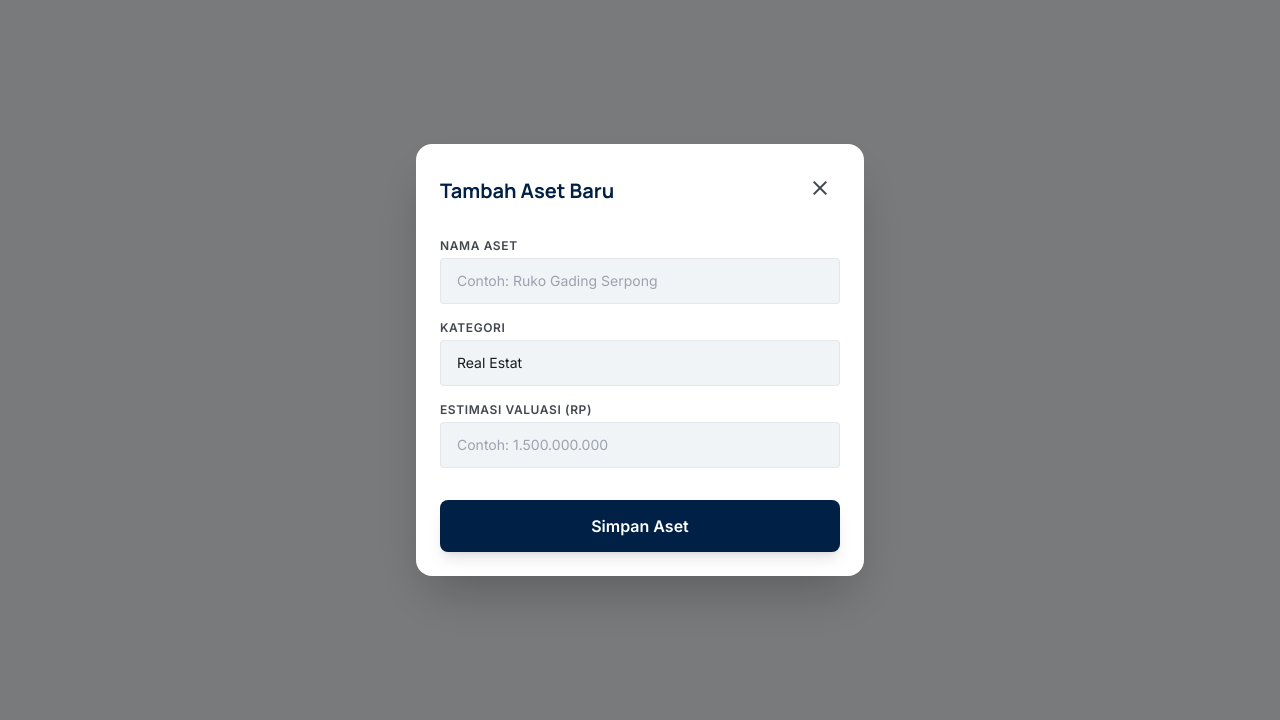
it: AddAssetModal Component › harusnya memformat input valuasi dengan pemisah ribuan
Type "1000000" into the field with placeholder "Contoh: 1.500.000.000" at (640, 445), box [440,422,840,468]
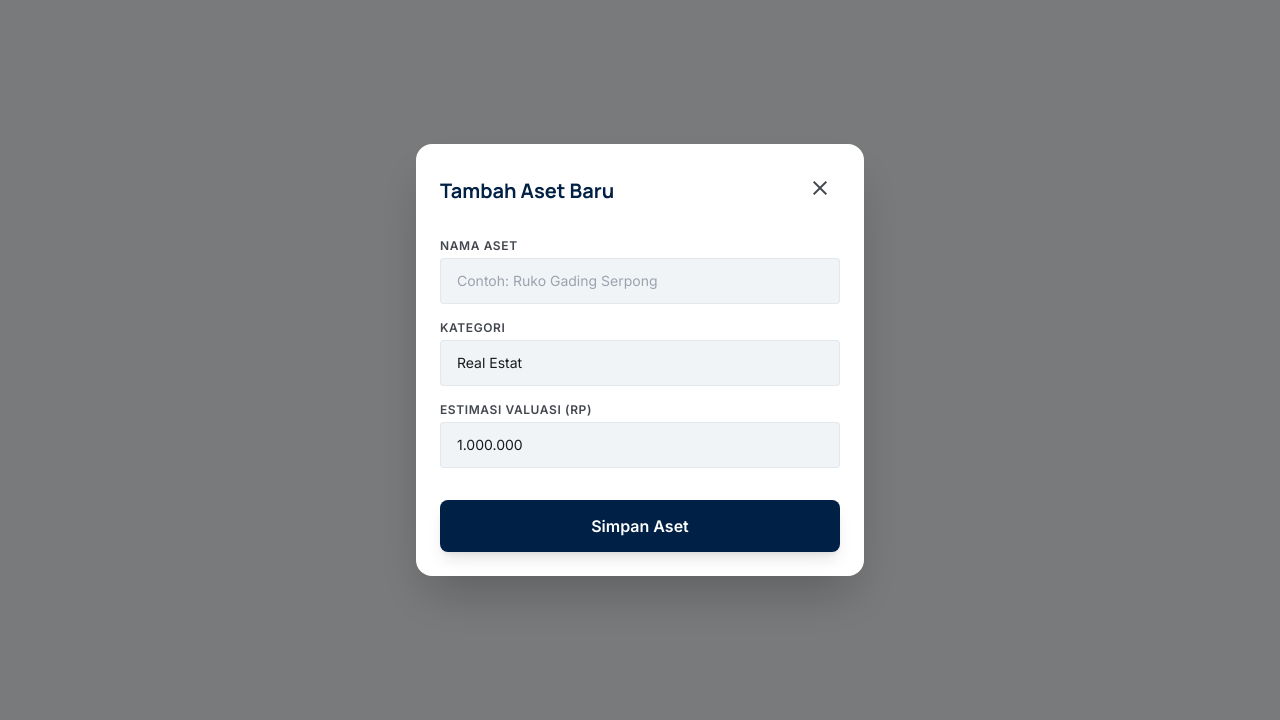
Check: the field with placeholder "Contoh: 1.500.000.000" holds "1.000.000", box [440,422,840,468]
